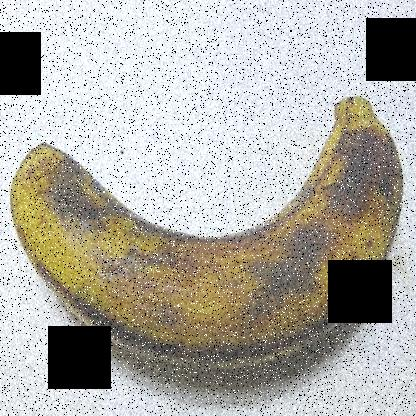overripe: (7, 83, 414, 380)
